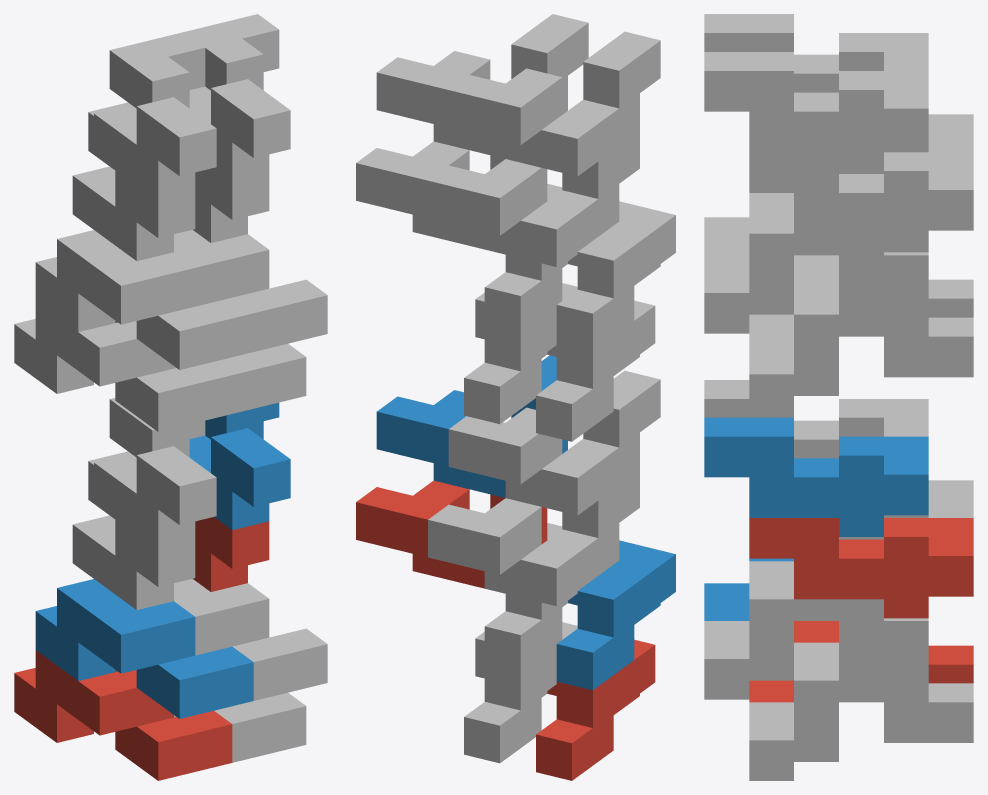
Rendered from tiling.obj.
3 views of the same model, side by side, from view 1: azimuth 30°, elevation 25°; view 2: azimuth 150°, elevation 25°; view 3: azimuth 270°, elevation 25° (orthographic). The views are drawn at different scales.
Parts seen in each view (by area): view 1: copy_1_domain_4, copy_1_domain_2, copy_2_domain_4, copy_1_domain_1, copy_1_domain_3, copy_2_domain_2, copy_2_domain_8, copy_1_domain_6, copy_1_domain_8, copy_2_domain_6, copy_2_domain_3, copy_2_domain_1 (+4 smaller); view 2: copy_2_domain_4, copy_2_domain_2, copy_2_domain_1, copy_2_domain_3, copy_2_domain_8, copy_1_domain_2, copy_1_domain_4, copy_1_domain_3, copy_1_domain_1, copy_1_domain_7, copy_1_domain_5, copy_2_domain_5 (+4 smaller); view 3: copy_2_domain_6, copy_2_domain_8, copy_1_domain_5, copy_1_domain_7, copy_2_domain_5, copy_2_domain_7, copy_1_domain_8, copy_1_domain_6, copy_2_domain_4, copy_2_domain_2, copy_1_domain_3, copy_1_domain_1 (+4 smaller).
Boxes of the visible parts, bbox=[...] form: copy_1_domain_4: bbox=[35, 230, 253, 369]; copy_1_domain_2: bbox=[35, 579, 253, 718]; copy_2_domain_4: bbox=[94, 32, 216, 199]; copy_1_domain_1: bbox=[14, 650, 232, 780]; copy_1_domain_3: bbox=[14, 301, 232, 431]; copy_2_domain_2: bbox=[94, 398, 216, 548]; copy_2_domain_8: bbox=[184, 14, 290, 181]; copy_1_domain_6: bbox=[174, 579, 327, 700]; copy_1_domain_8: bbox=[174, 230, 327, 351]; copy_2_domain_6: bbox=[189, 402, 290, 530]; copy_2_domain_3: bbox=[72, 102, 195, 260]; copy_2_domain_1: bbox=[72, 451, 195, 609]; copy_2_domain_4: bbox=[448, 31, 660, 176]; copy_2_domain_2: bbox=[448, 371, 660, 515]; copy_2_domain_1: bbox=[428, 470, 639, 606]; copy_2_domain_3: bbox=[428, 131, 639, 266]; copy_2_domain_8: bbox=[376, 14, 588, 158]; copy_1_domain_2: bbox=[556, 540, 675, 690]; copy_1_domain_4: bbox=[556, 201, 675, 351]; copy_1_domain_3: bbox=[536, 300, 655, 441]; copy_1_domain_1: bbox=[536, 639, 655, 780]; copy_1_domain_7: bbox=[464, 283, 577, 424]; copy_1_domain_5: bbox=[464, 622, 577, 763]; copy_2_domain_5: bbox=[356, 480, 547, 588]; copy_2_domain_6: bbox=[704, 417, 928, 536]; copy_2_domain_8: bbox=[704, 52, 928, 170]; copy_1_domain_5: bbox=[749, 642, 973, 780]; copy_1_domain_7: bbox=[749, 277, 973, 414]; copy_2_domain_5: bbox=[749, 518, 973, 618]; copy_2_domain_7: bbox=[749, 152, 973, 252]; copy_1_domain_8: bbox=[704, 195, 928, 333]; copy_1_domain_6: bbox=[704, 561, 928, 699]; copy_2_domain_4: bbox=[704, 14, 928, 92]; copy_2_domain_2: bbox=[704, 380, 928, 458]; copy_1_domain_3: bbox=[749, 255, 973, 336]; copy_1_domain_1: bbox=[749, 621, 973, 702].
Bounding box in the file's own units: 6 × 17 × 6.
